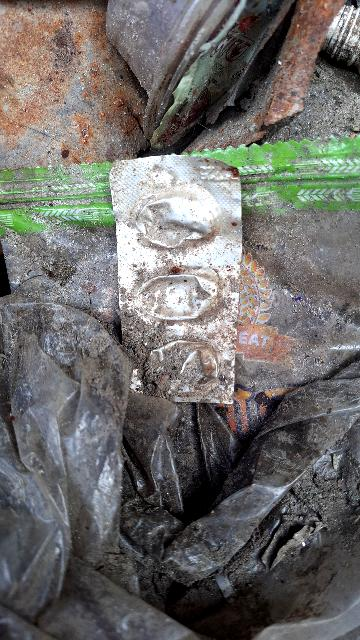medicine: (111, 158, 241, 402)
